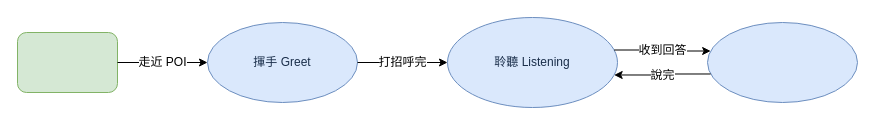
The diagram is 875 pixels wide and 125 high, and some of its shapes have lost their labels. Each missing label, with the centre of its shape:
"現身" belongs at [67,62].
"說話 Talk" belongs at [782,62].
